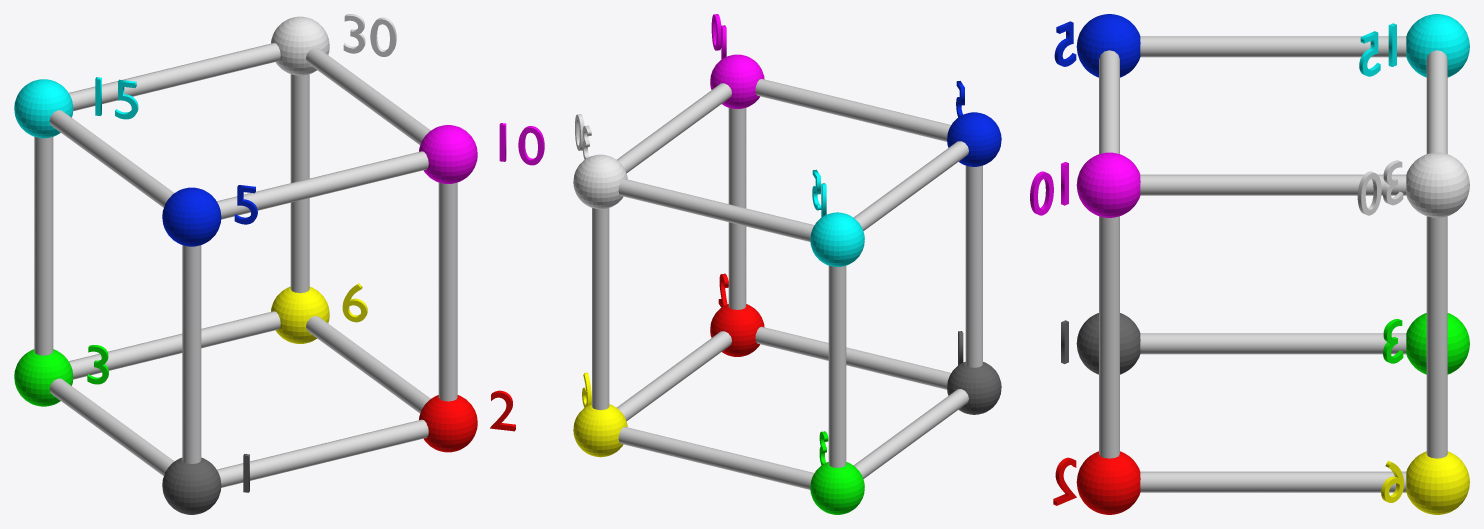
Rendered from vertices.glb.
3 views of the same model, side by side, from view 1: azimuth 30°, elevation 25°; view 2: azimuth 150°, elevation 25°; view 3: azimuth 270°, elevation 25° (orthographic). The views are drawn at different scales.
Parts seen in each view (by area): view 1: NurbsPath.014_63, NurbsPath.022_71, NurbsPath.021_70, NurbsPath.012_61, NurbsPath.016_65, NurbsPath.018_67, NurbsPath.023_72, NurbsPath.020_69, Z_4, NurbsPath.013_62, NurbsPath.015_64, NurbsPath.017_66 (+11 smaller); view 2: NurbsPath.022_71, NurbsPath.014_63, NurbsPath.018_67, NurbsPath.016_65, NurbsPath.020_69, NurbsPath.023_72, NurbsPath.021_70, NurbsPath.012_61, YZ_8, NurbsPath.019_68, NurbsPath.013_62, NurbsPath.015_64 (+10 smaller); view 3: NurbsPath.013_62, NurbsPath.019_68, NurbsPath.015_64, NurbsPath.017_66, NurbsPath.018_67, NurbsPath.021_70, XZ_5, XYZ_7, X_2, XY_6, YZ_8, Z_4 (+11 smaller).
Boxes of the visible parts, <box> form: NurbsPath.014_63: <box>182,245,201,463</box>; NurbsPath.022_71: <box>34,137,53,355</box>; NurbsPath.021_70: <box>438,182,457,401</box>; NurbsPath.012_61: <box>217,419,428,487</box>; NurbsPath.016_65: <box>217,151,428,219</box>; NurbsPath.018_67: <box>290,74,309,293</box>; NurbsPath.023_72: <box>69,43,280,111</box>; NurbsPath.020_69: <box>69,311,280,379</box>; Z_4: <box>162,187,221,246</box>; NurbsPath.013_62: <box>49,378,174,475</box>; NurbsPath.015_64: <box>49,110,174,207</box>; NurbsPath.017_66: <box>306,47,430,144</box>; NurbsPath.022_71: <box>828,265,846,467</box>; NurbsPath.014_63: <box>965,165,982,367</box>; NurbsPath.018_67: <box>592,208,609,410</box>; NurbsPath.016_65: <box>755,79,950,141</box>; NurbsPath.020_69: <box>618,427,814,489</box>; NurbsPath.023_72: <box>618,179,814,241</box>; NurbsPath.021_70: <box>728,108,746,309</box>; NurbsPath.012_61: <box>755,326,950,389</box>; YZ_8: <box>810,212,864,266</box>; NurbsPath.019_68: <box>616,331,731,421</box>; NurbsPath.013_62: <box>853,389,968,478</box>; NurbsPath.015_64: <box>853,141,968,230</box>; NurbsPath.013_62: <box>1140,333,1406,354</box>; NurbsPath.019_68: <box>1140,471,1406,492</box>; NurbsPath.015_64: <box>1140,36,1406,57</box>; NurbsPath.017_66: <box>1140,174,1406,195</box>; NurbsPath.018_67: <box>1426,216,1447,458</box>; NurbsPath.021_70: <box>1099,216,1119,458</box>; XZ_5: <box>1076,152,1140,217</box>; XYZ_7: <box>1406,152,1469,217</box>; X_2: <box>1076,451,1140,514</box>; XY_6: <box>1406,451,1469,514</box>; YZ_8: <box>1406,14,1469,77</box>; Z_4: <box>1076,14,1140,77</box>.
Bounding box in the file's own units: 1.34 × 1.24 × 1.34.
